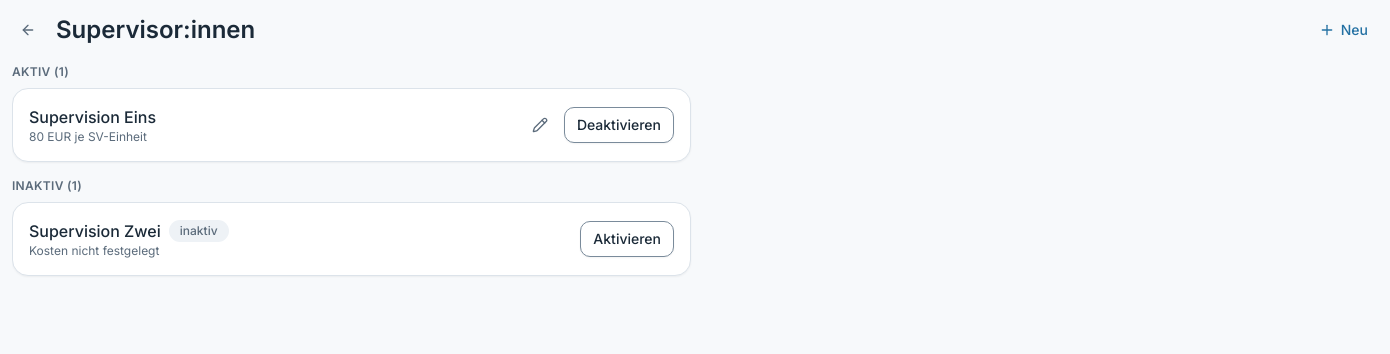
Test: SupervisorsClient › zeigt einen Fehler beim Deaktivieren in der Karte der Supervisor:in, nicht am Seitenanfang
Click the button "Deaktivieren". click: coordinates (619, 125)
box: [564, 107, 674, 143]
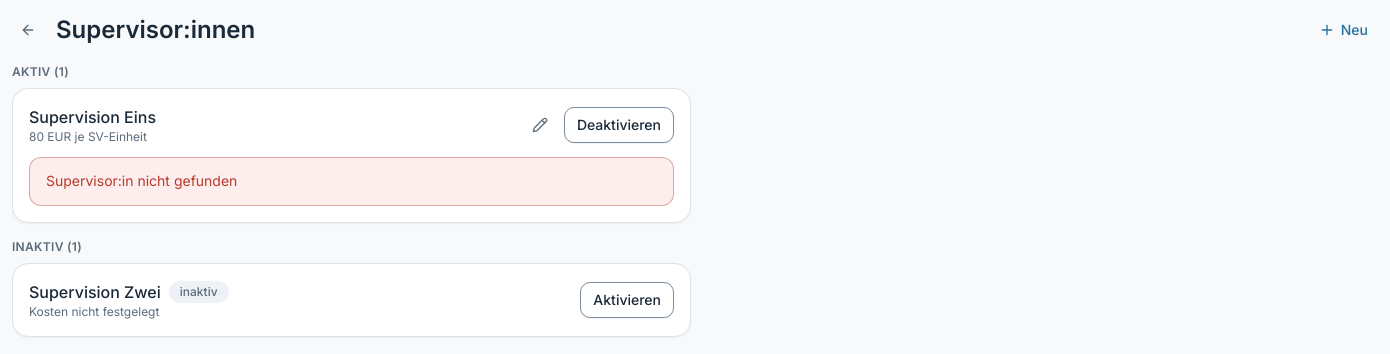
Result: the message reads "Supervisor:in nicht gefunden" at [46, 172, 237, 189]
Result: the number of messages is 1 at [29, 157, 674, 206]
